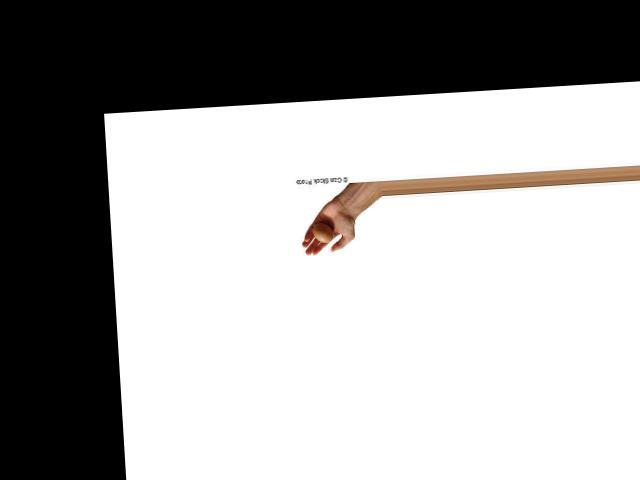egg: (311, 222, 332, 242)
